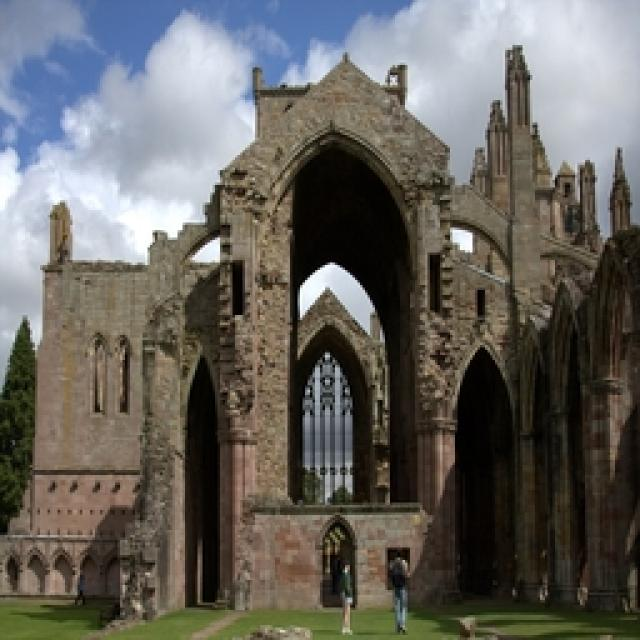Abbey: (248, 107, 446, 531)
